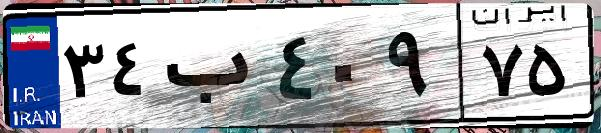0: (330, 28, 385, 110)
3: (57, 26, 110, 100)
4: (270, 28, 330, 110), (110, 28, 158, 98)
5: (525, 38, 570, 115)
7: (475, 38, 525, 113)
9: (385, 28, 445, 110)
ب: (158, 20, 270, 120)
